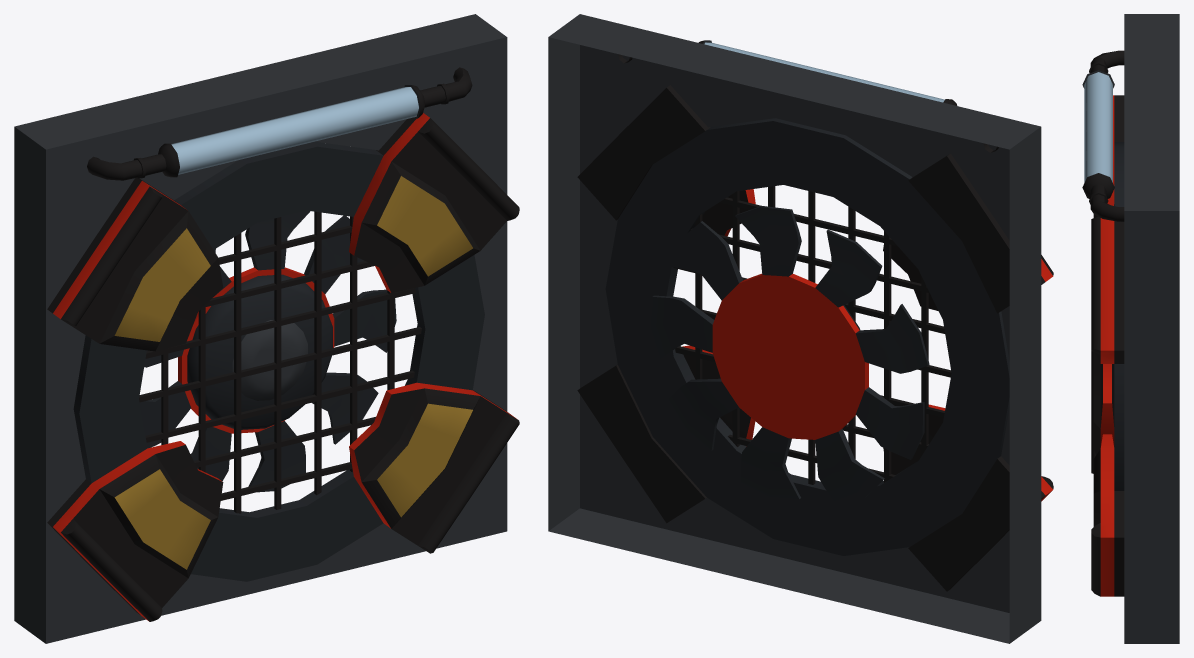
Rendered from Fan Animated.fbx.
The picture shows the model from 3 angles, left to right: view 1: azimuth 30°, elevation 25°; view 2: azimuth 150°, elevation 25°; view 3: azimuth 270°, elevation 25°; orthographic projection. The views are drawn at different scales.
Visible parts, largest first — view 1: Fan_Exterior, Plane001, Fann; view 2: Fan_Exterior, Plane001, Fann; view 3: Plane001, Fan_Exterior.
Part boxes in pixels (x1,y1,x2,y2): Fan_Exterior: (47, 67, 519, 621); Plane001: (14, 14, 507, 643); Fann: (139, 210, 396, 492); Fan_Exterior: (577, 40, 1053, 591); Plane001: (548, 14, 1041, 643); Fann: (650, 206, 929, 505); Plane001: (1124, 14, 1179, 643); Fan_Exterior: (1082, 50, 1124, 596).
Size of the model in its own units: 169 by 173 by 35.16.
